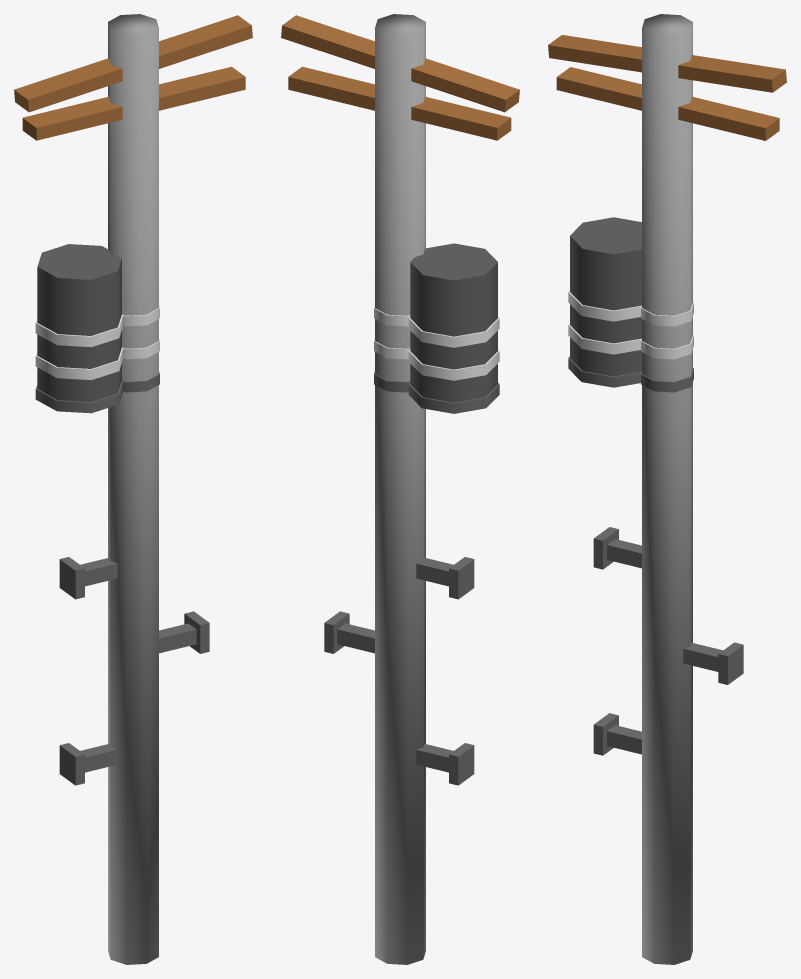
Rendered from ElectPole.fbx.
The picture shows the model from 3 angles, left to right: view 1: azimuth 30°, elevation 25°; view 2: azimuth 150°, elevation 25°; view 3: azimuth 330°, elevation 25°; orthographic projection.
Parts seen in each view (by area): view 1: MainBar, Battery, TopBoard, Pad; view 2: MainBar, Battery, TopBoard, Pad; view 3: MainBar, Battery, TopBoard, Pad.
Part boxes in pixels (x1,y1,x2,y2): MainBar: [108, 14, 158, 964]; Battery: [35, 244, 159, 413]; TopBoard: [14, 15, 252, 140]; Pad: [59, 557, 209, 785]; MainBar: [375, 14, 425, 964]; Battery: [374, 243, 499, 413]; TopBoard: [281, 15, 519, 140]; Pad: [324, 557, 474, 785]; MainBar: [642, 14, 692, 964]; Battery: [568, 217, 693, 392]; TopBoard: [548, 35, 786, 140]; Pad: [593, 527, 743, 755].
Bounding box in the file's own units: 279 × 94.41 × 1100.
